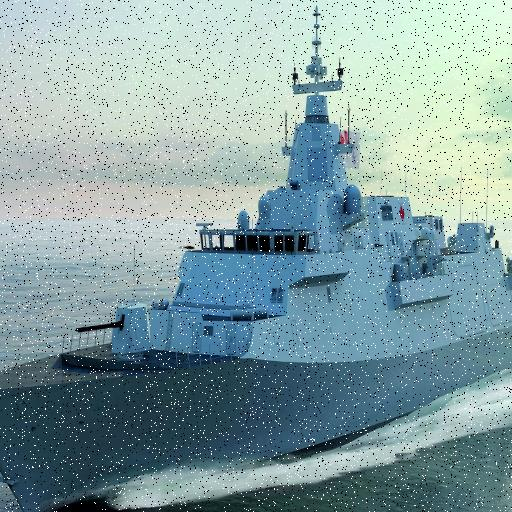Fragata: (1, 1, 389, 512)
